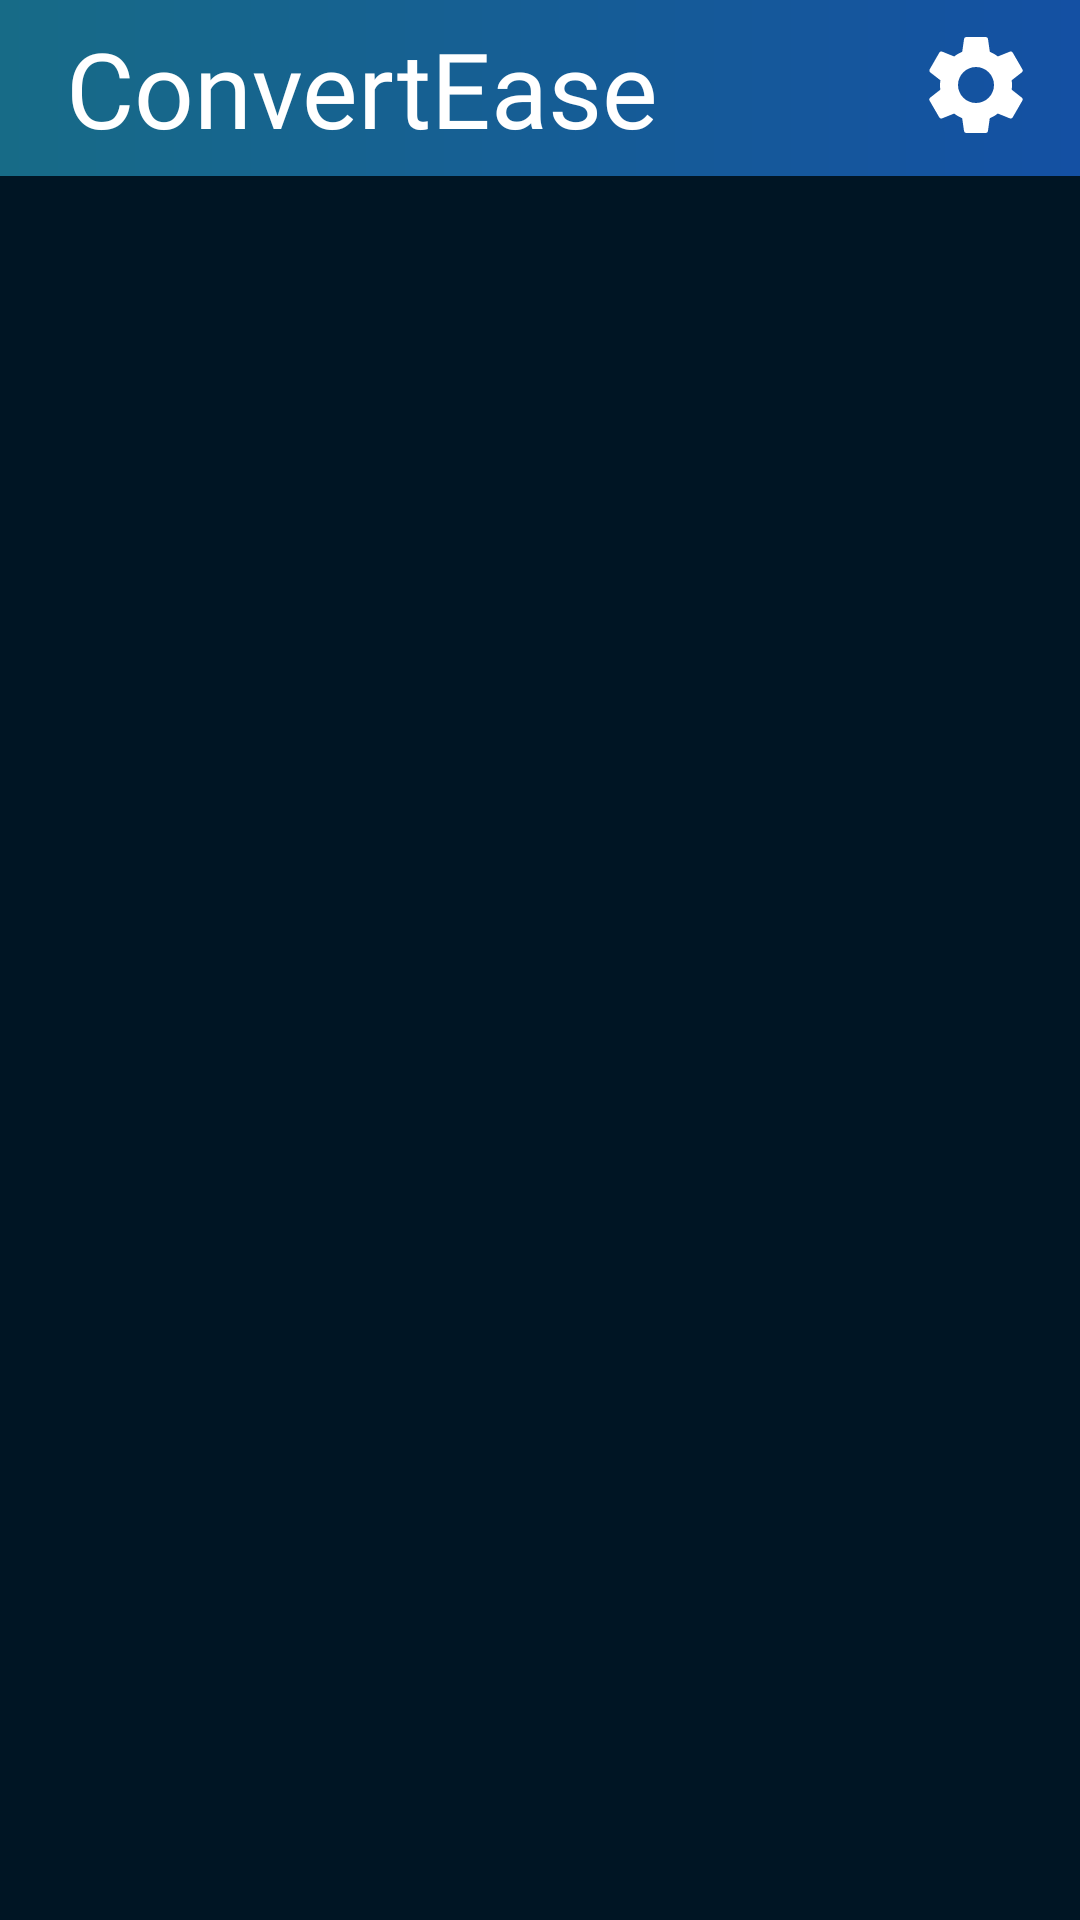

Where icons sit on this 1080 × 1920 app screen, as [x1=x1, y1=y1, x2=x2, y2=y2]:
setting: [x1=929, y1=37, x2=1023, y2=133]
